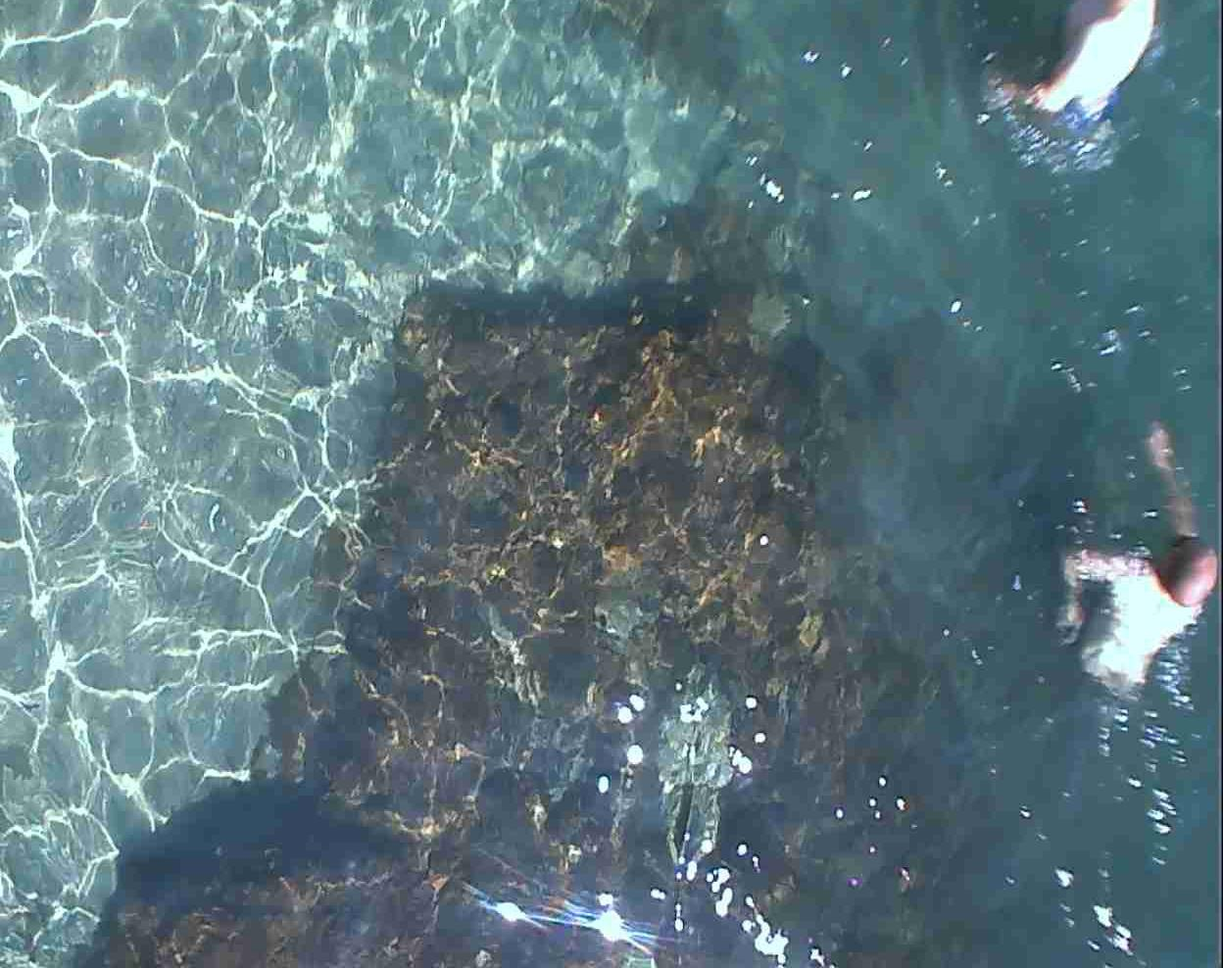human: (1071, 402, 1205, 717), (1005, 0, 1164, 177)
